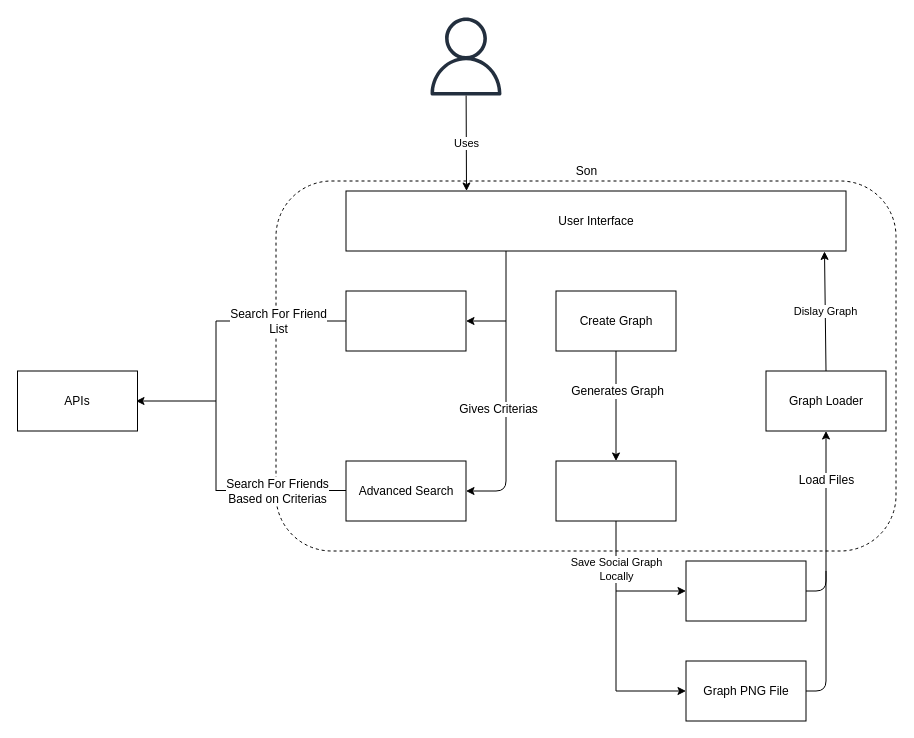
Image size: 914x738. Some labels were removed from this diagram. The shapes that lost their labels are listed below. From the top down, each one's box as (x1, y1, x2, y2) in pixels, then its label:
(345, 290, 466, 351): Search
(555, 460, 676, 521): Save Graph
(685, 560, 806, 621): Graph FOAF File
